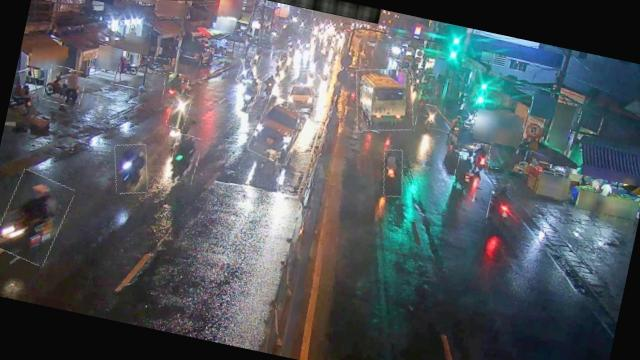Bike: (0, 167, 73, 266), (109, 140, 154, 197), (42, 64, 88, 108), (166, 133, 202, 186), (378, 148, 408, 198), (450, 156, 482, 202), (486, 182, 516, 229), (414, 102, 446, 136), (166, 92, 192, 131), (237, 75, 261, 114), (162, 71, 190, 102), (138, 53, 171, 75), (470, 142, 493, 172), (259, 70, 280, 100), (236, 58, 254, 84), (272, 50, 287, 74), (251, 46, 264, 66)
Bus: (348, 62, 420, 138)
Car: (248, 94, 308, 167), (284, 81, 317, 114)
